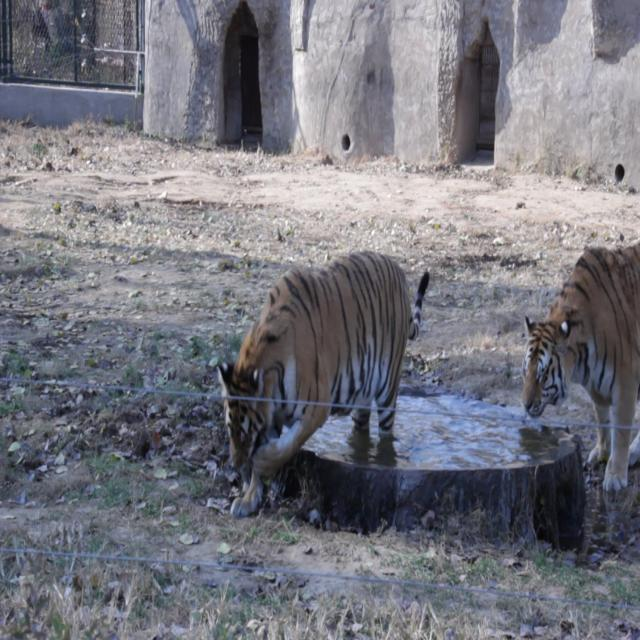Tiger: (205, 240, 436, 534), (516, 224, 640, 482)
